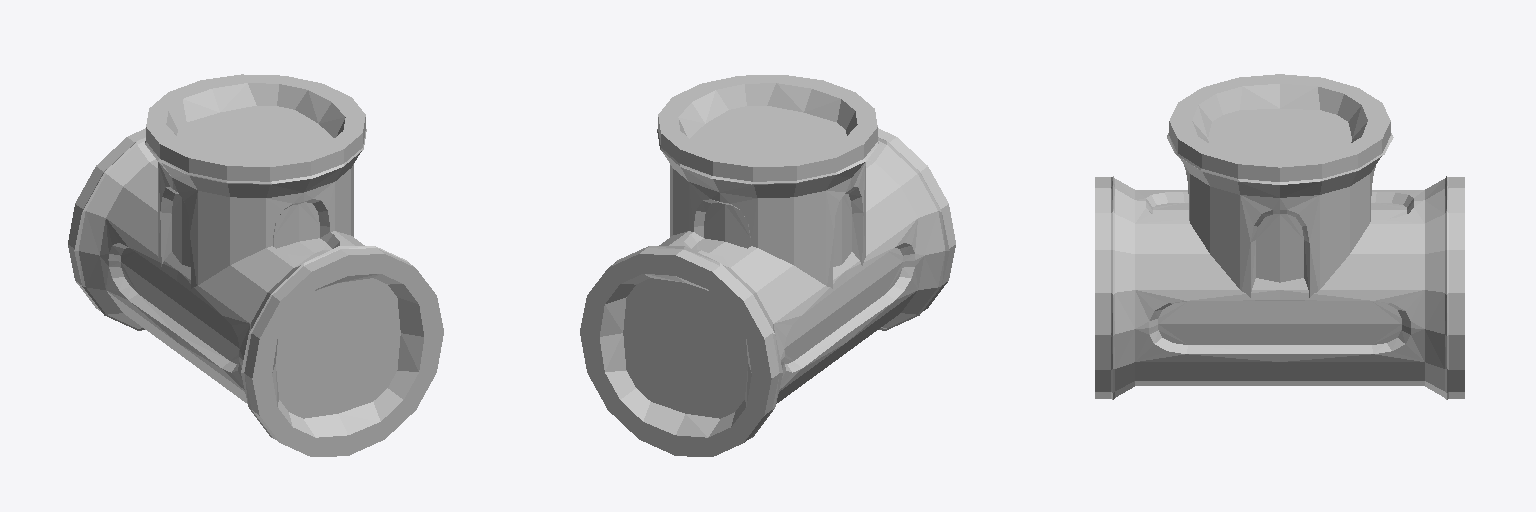
Rendered from Pipe_3way.obj.
The picture shows the model from 3 angles: view 1: azimuth 30°, elevation 25°; view 2: azimuth 150°, elevation 25°; view 3: azimuth 270°, elevation 25°; orthographic projection.
Parts seen in each view (by area): view 1: Cylinder.002; view 2: Cylinder.002; view 3: Cylinder.002.
Boxes of the visible parts, <box> form: Cylinder.002: <box>68,74,443,456</box>; Cylinder.002: <box>580,75,955,456</box>; Cylinder.002: <box>1095,74,1464,399</box>.
Size of the model in its own units: 0.6156 by 0.8075 by 1.